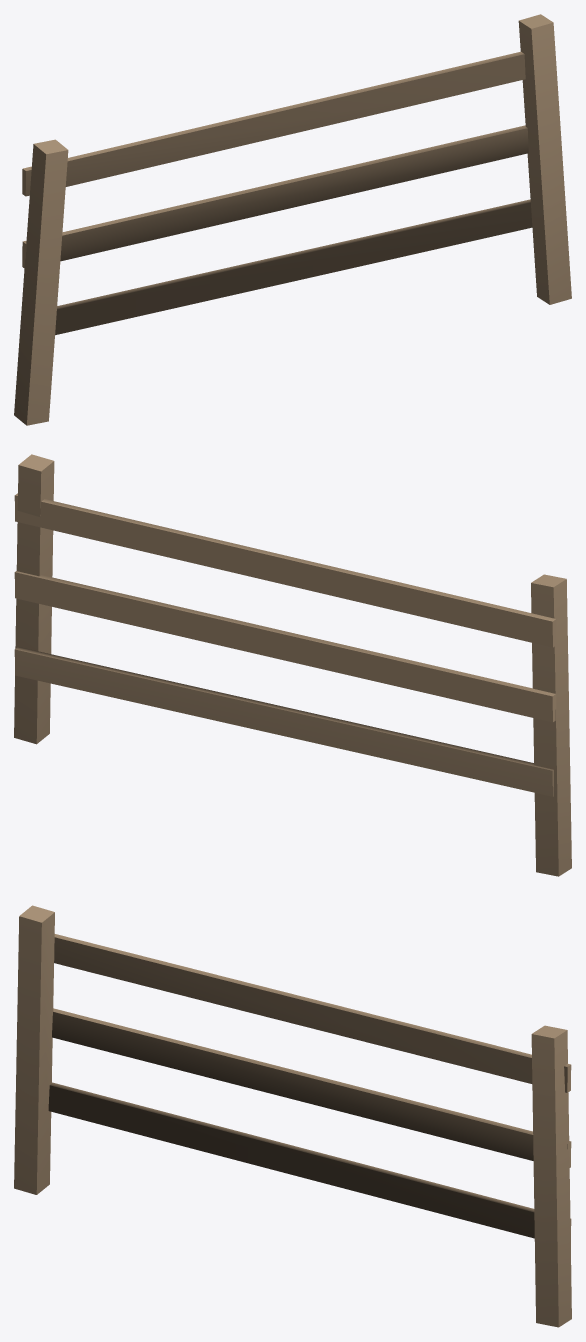
Rendered from fence_wood.glb.
3 views of the same model, one above another, from view 1: azimuth 30°, elevation 25°; view 2: azimuth 150°, elevation 25°; view 3: azimuth 330°, elevation 25° (orthographic). The views are drawn at different scales.
Parts seen in each view (by area): view 1: fence_wood; view 2: fence_wood; view 3: fence_wood.
Part boxes in pixels (bbox=[...]): fence_wood: bbox=[14, 14, 571, 425]; fence_wood: bbox=[14, 454, 571, 876]; fence_wood: bbox=[14, 905, 571, 1327].
Size of the model in its own units: 2.67 by 1.31 by 0.1719.
